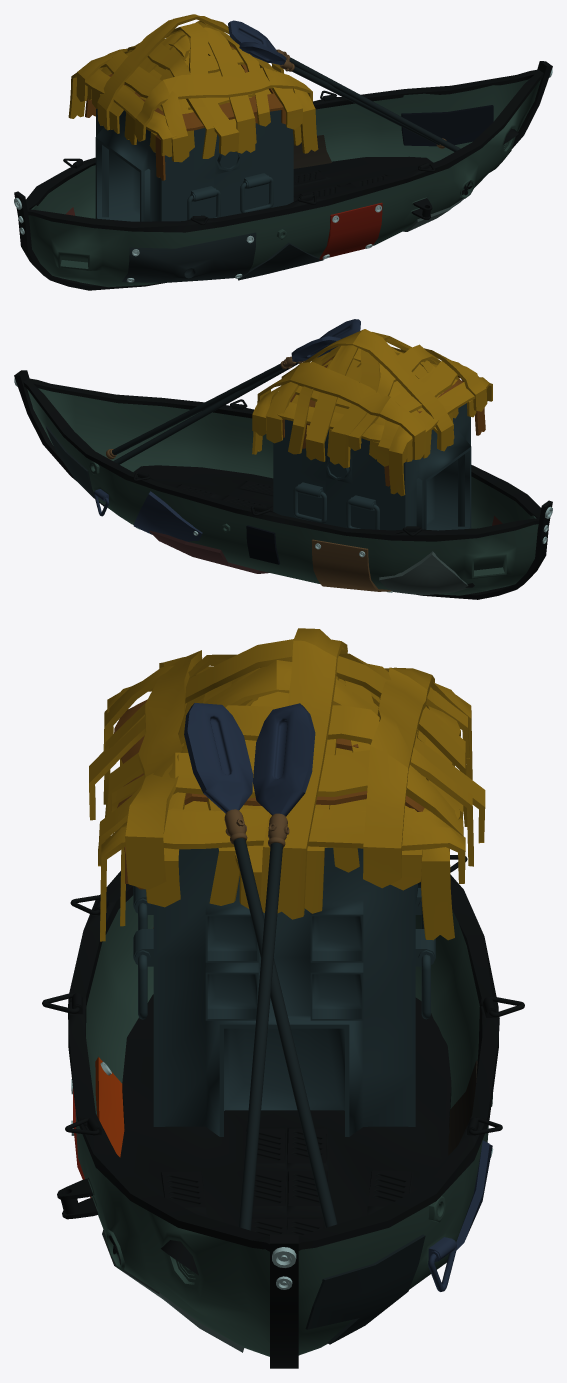
Rendered from KelpBoat01.fbx.
3 renders of one model, top to bottom at view 1: azimuth 30°, elevation 25°; view 2: azimuth 150°, elevation 25°; view 3: azimuth 270°, elevation 25°, orthographic. The views are drawn at different scales.
Visible parts, largest first — view 1: BoatBody003, Box392, Line055 (×2), Boat01, Line056 (×2), Box391, Line054 (×2), Line050, Line046, Line053, Line051, Line047 (+11 smaller); view 2: BoatBody003, Box392, Line055 (×2), Line054 (×2), Box391, Boat01, Line056, Line029, Box390, Line053, Line046, Line051 (+13 smaller); view 3: Box392, BoatBody003, Box391, Line055 (×2), Line054 (×2), Boat01, Line052, Line056, Line046, Line049, Box394, Box393 (+16 smaller).
Part boxes in pixels (<box>): BoatBody003: <box>28,78,540,287</box>; Box392: <box>95,109,293,221</box>; Line055 (×2): <box>26,67,543,232</box>; Boat01: <box>66,105,518,282</box>; Line056 (×2): <box>97,14,382,259</box>; Box391: <box>293,156,433,201</box>; Line054 (×2): <box>14,19,552,290</box>; Line050: <box>100,50,189,162</box>; Line046: <box>166,22,239,155</box>; Line053: <box>68,69,175,157</box>; Line051: <box>192,21,255,153</box>; Line047: <box>124,42,216,158</box>; BoatBody003: <box>27,388,538,595</box>; Box392: <box>273,403,471,530</box>; Line055 (×2): <box>23,347,541,541</box>; Line054 (×2): <box>14,362,552,599</box>; Box391: <box>102,465,474,587</box>; Boat01: <box>45,426,502,573</box>; Line056: <box>281,329,453,451</box>; Line029: <box>311,539,391,591</box>; Box390: <box>379,551,469,595</box>; Line053: <box>388,377,492,496</box>; Line046: <box>330,332,437,468</box>; Line051: <box>305,345,390,461</box>; Box392: <box>133,847,435,1136</box>; BoatBody003: <box>75,895,492,1356</box>; Box391: <box>120,994,451,1316</box>; Line055 (×2): <box>42,650,524,1251</box>; Line054 (×2): <box>270,667,434,1368</box>; Boat01: <box>57,927,477,1352</box>; Line052: <box>100,809,465,941</box>; Line056: <box>260,628,347,919</box>; Line046: <box>89,639,467,826</box>; Line049: <box>98,750,463,879</box>; Box394: <box>184,703,252,813</box>; Box393: <box>253,703,315,816</box>.
Bounding box in the file's own units: 489 × 225 × 191.
